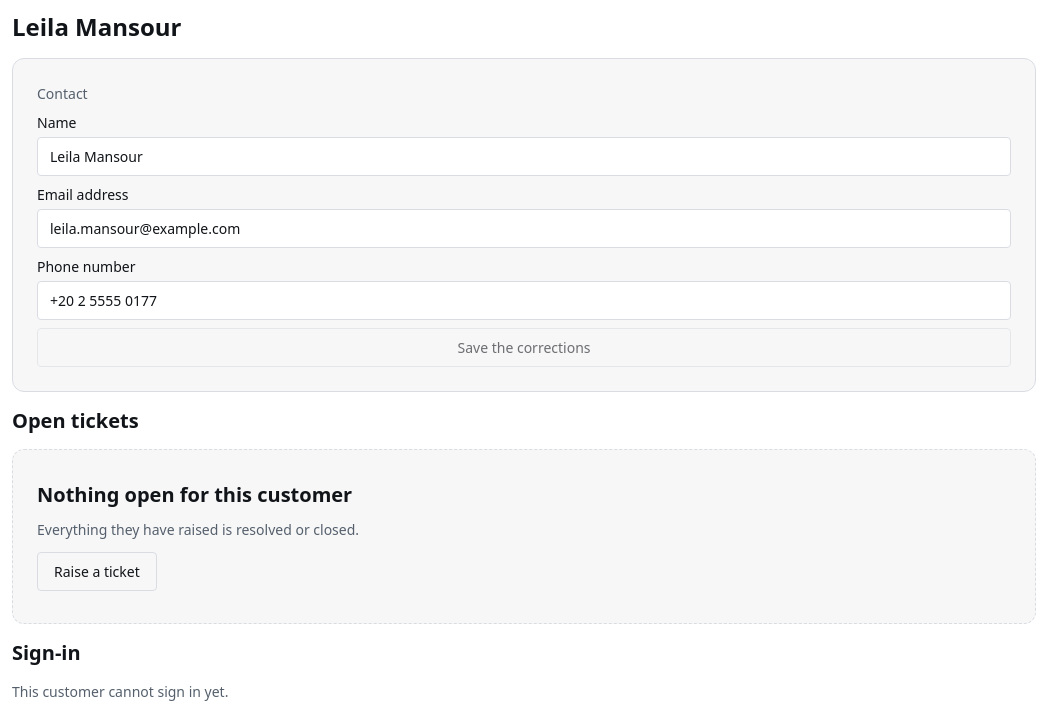
Test: a field the API named is marked, with the shared sentence
This screenshot has width=1048, height=708.
Expected: the field showing "Leila Mansour" is shown, [37,137,1011,176]
Replace the text in the field labelled "Email address" with "not-an-address" at (524, 228), box [37,209,1011,248]
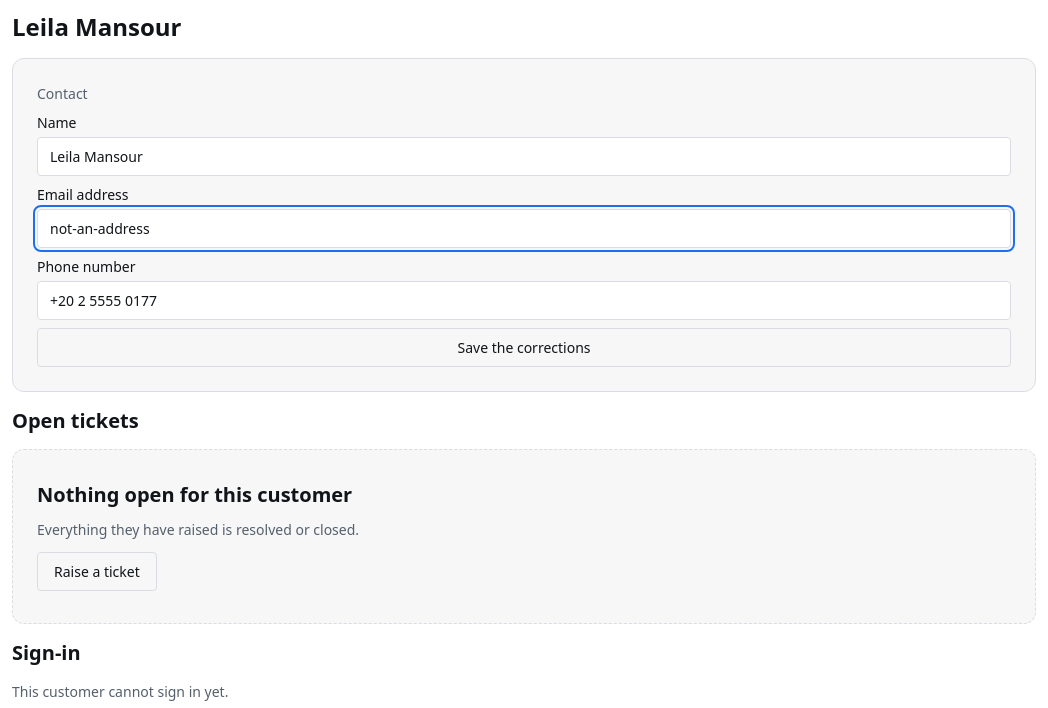
Click the button "Save the corrections".
click(524, 348)  # box [37,328,1011,367]
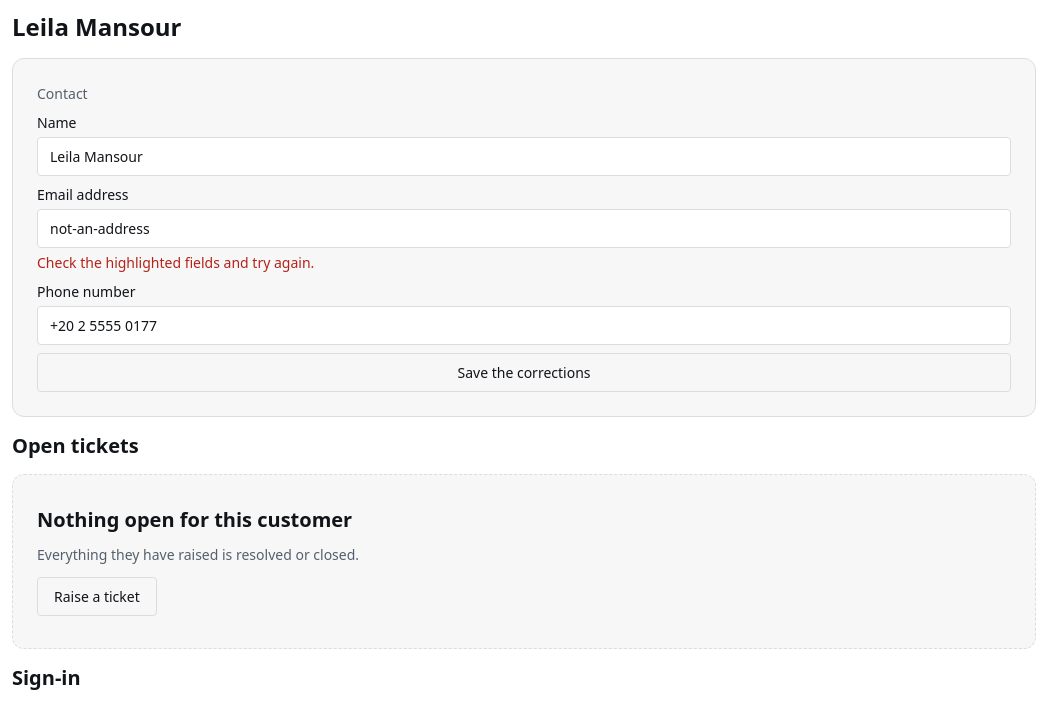
Expected: the text "Check the highlighted fields and try again." is shown, [37,253,314,272]
